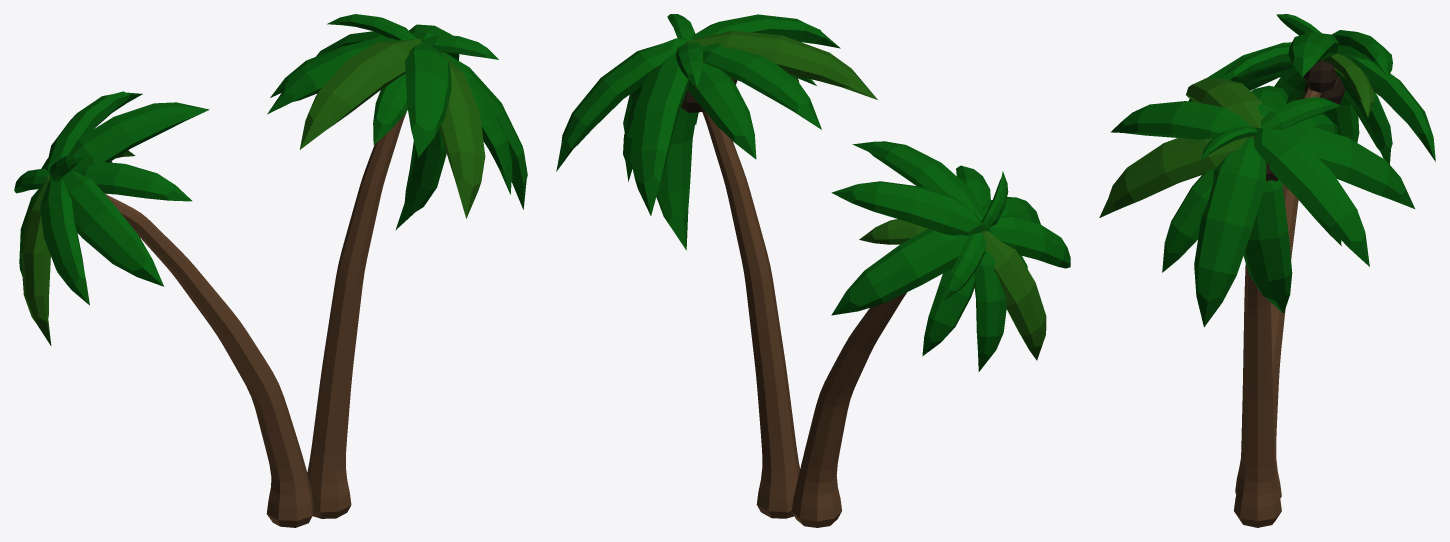
The model's file is lp_palm_5_Cube_039.obj.
The picture shows the model from 3 angles, left to right: view 1: azimuth 30°, elevation 25°; view 2: azimuth 150°, elevation 25°; view 3: azimuth 270°, elevation 25°; orthographic projection. The views are drawn at different scales.
Parts seen in each view (by area): view 1: lp_palm_5_Cube_039; view 2: lp_palm_5_Cube_039; view 3: lp_palm_5_Cube_039.
Part boxes in pixels (x1,y1,x2,y2): lp_palm_5_Cube_039: [14, 14, 527, 527]; lp_palm_5_Cube_039: [556, 14, 1070, 527]; lp_palm_5_Cube_039: [1099, 14, 1435, 527].
Size of the model in its own units: 13.54 by 13.23 by 8.9.
